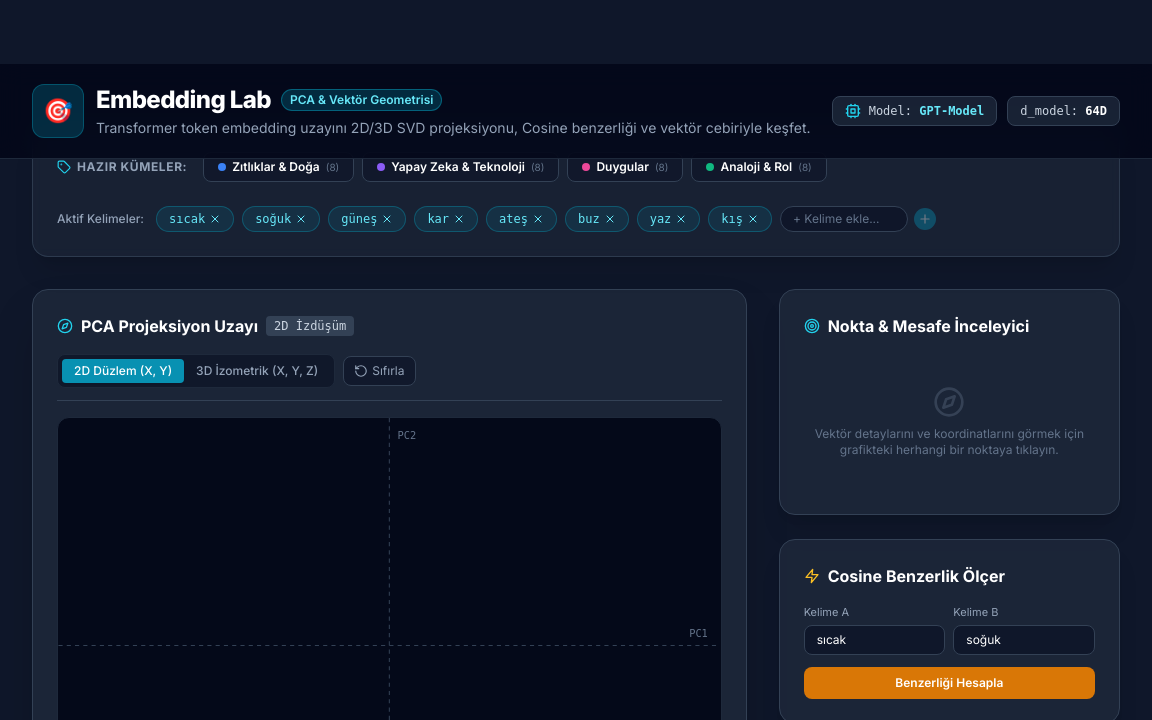
Embedding Lab Page › allows switching dimension between 2D and 3D mode
Click the button "3D İzometrik (X, Y, Z)" at (257, 371), box [184,359,330,383]
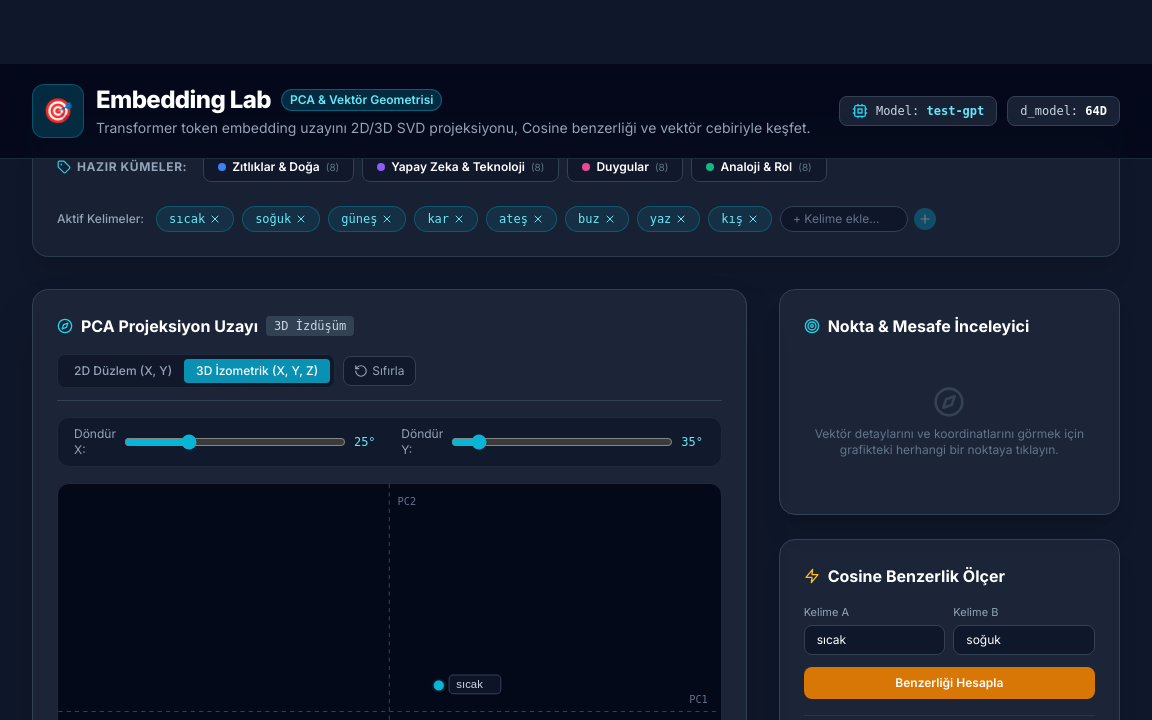
Expected: the text "Döndür X:" is shown, [74,426,116,458]
